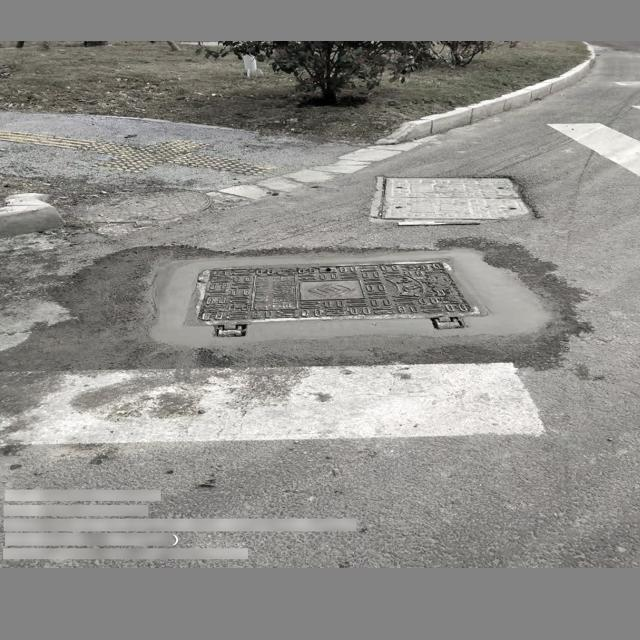good: (179, 256, 492, 338), (368, 174, 539, 226)
